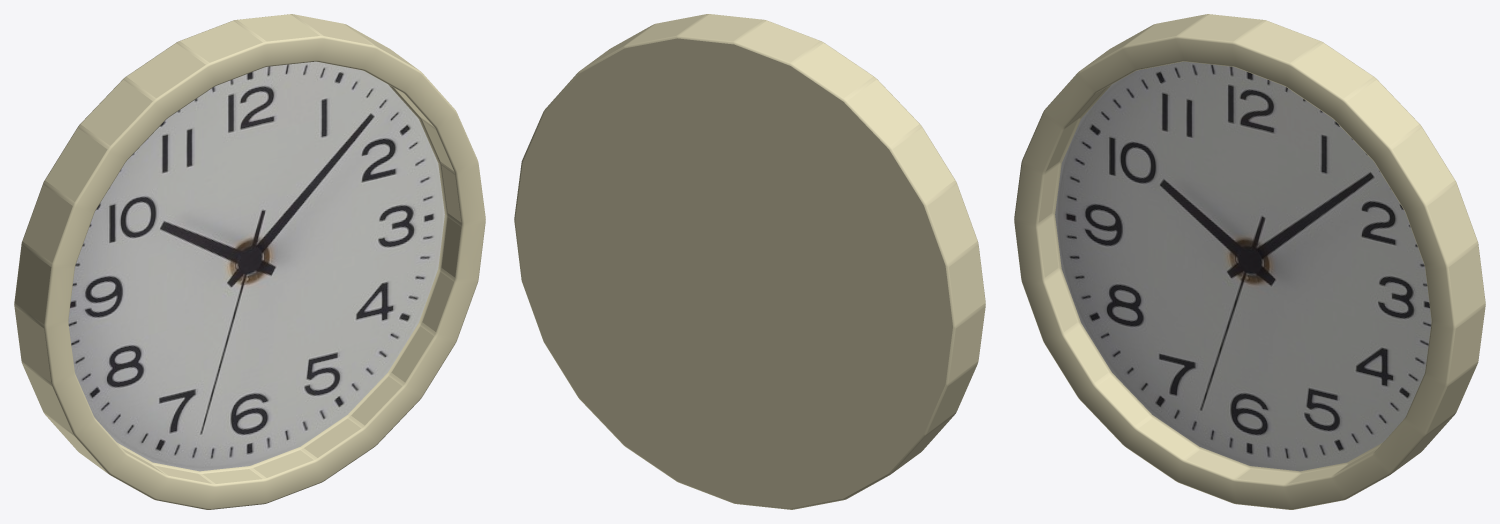
File: clock.gltf
3 renders of one model, left to right at view 1: azimuth 30°, elevation 25°; view 2: azimuth 150°, elevation 25°; view 3: azimuth 330°, elevation 25°, orthographic.
Visible parts, largest first — view 1: clock; view 2: clock; view 3: clock.
Boxes of the visible parts, <box> form: clock: <box>14,14,485,509</box>; clock: <box>514,14,985,509</box>; clock: <box>1014,14,1485,509</box>.
Bounding box in the file's own units: 1.6 × 1.6 × 0.2.
Materials: 2 (1 with a texture image).
